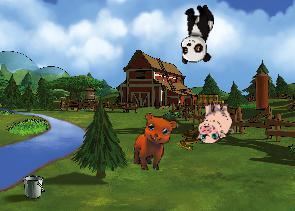bear: (132, 112, 178, 173)
panda: (179, 3, 214, 64)
pig: (194, 100, 234, 143)
